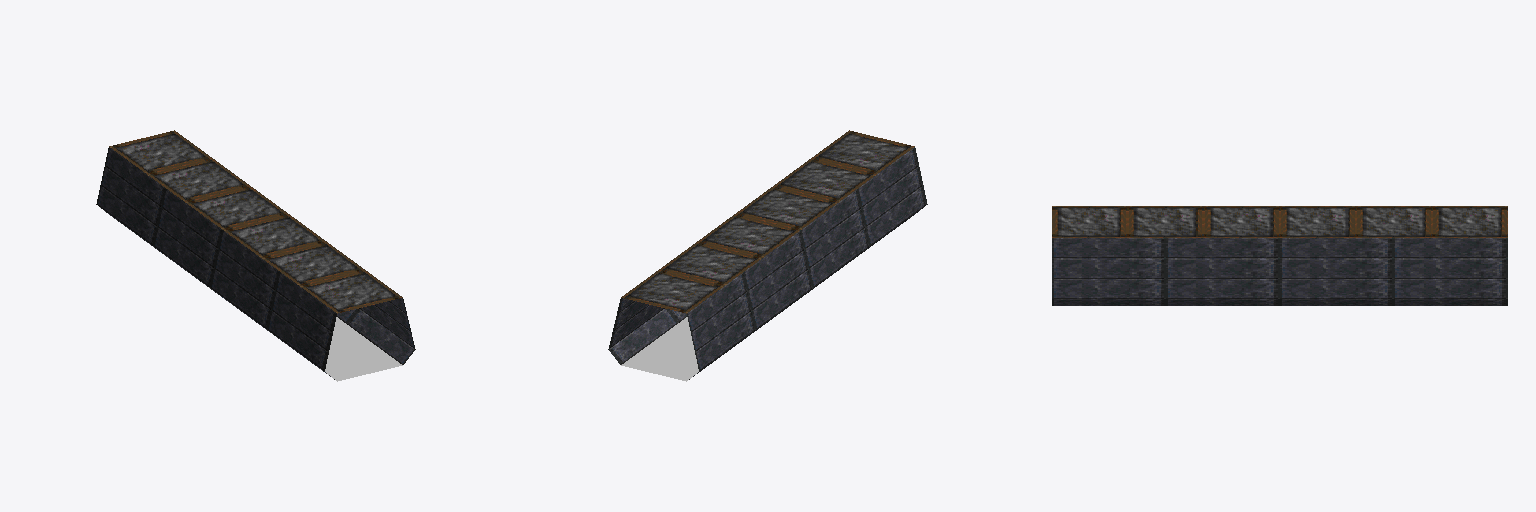
3 views of the same model, side by side, from view 1: azimuth 30°, elevation 25°; view 2: azimuth 150°, elevation 25°; view 3: azimuth 270°, elevation 25° (orthographic).
Parts seen in each view (by area): view 1: model63022-node_model63022; view 2: model63022-node_model63022; view 3: model63022-node_model63022.
Boxes of the visible parts, <box> form: model63022-node_model63022: <box>96,130,415,381</box>; model63022-node_model63022: <box>608,130,927,381</box>; model63022-node_model63022: <box>1052,206,1507,305</box>.
Size of the model in its own units: 4.4 by 3.15 by 19.2.
Materials: 4 (3 with a texture image).